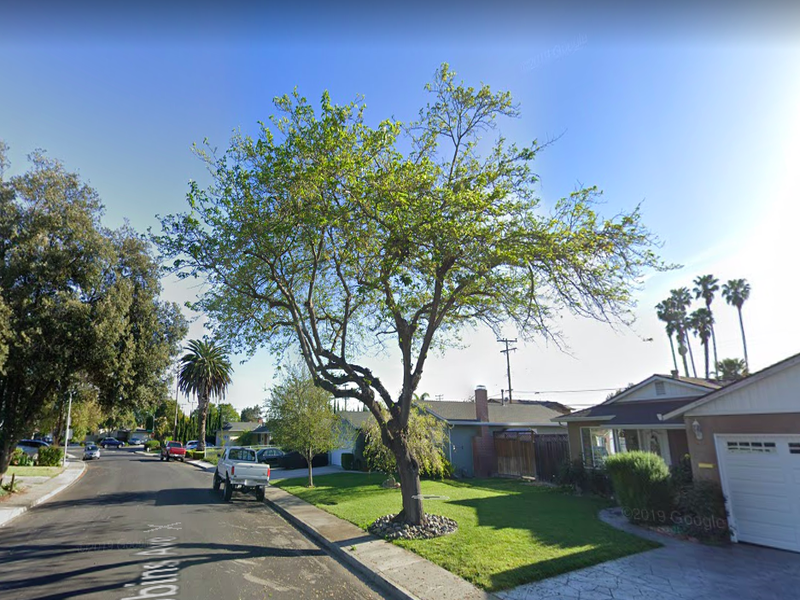tree: (146, 61, 685, 528)
